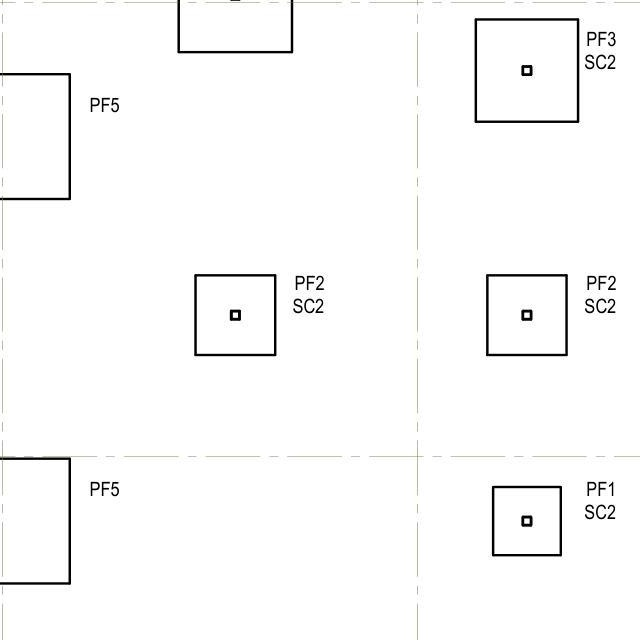PF1: (580, 467, 625, 496)
PF2: (582, 265, 629, 296), (292, 265, 335, 294)
PF3: (578, 20, 625, 45)
PF5: (80, 81, 133, 120), (70, 473, 127, 502)
